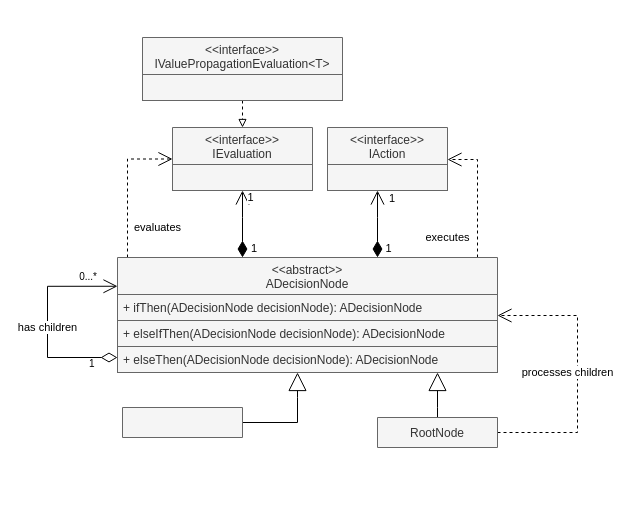
Some shapes in this 644 by 524 pixel diagram are drawn without their labels. Here are the shapes that lost their labels. From the top down, the box of each, then its label:
(142, 74, 342, 100): + get(): T
(172, 164, 312, 190): + evaluate(): boolean
(326, 164, 448, 190): + execute(): void
(122, 406, 242, 438): Node
